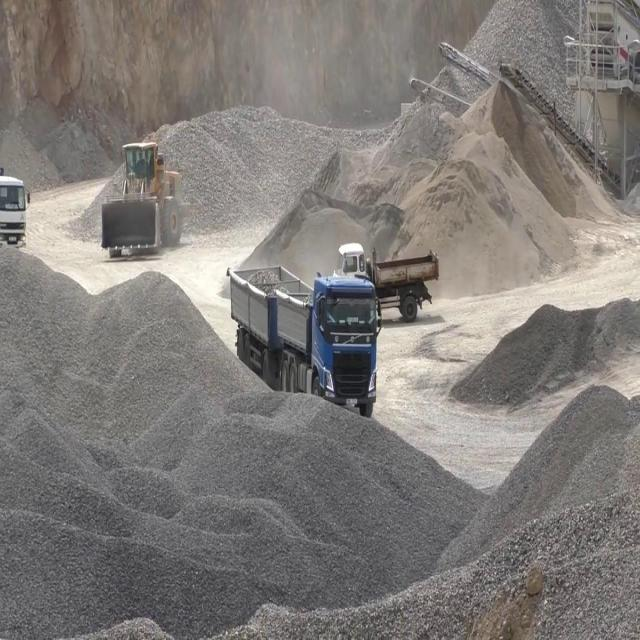buldozerpayloadergrader: (99, 142, 193, 260)
dump_truck: (228, 260, 376, 422), (342, 244, 438, 320), (1, 169, 28, 253)
